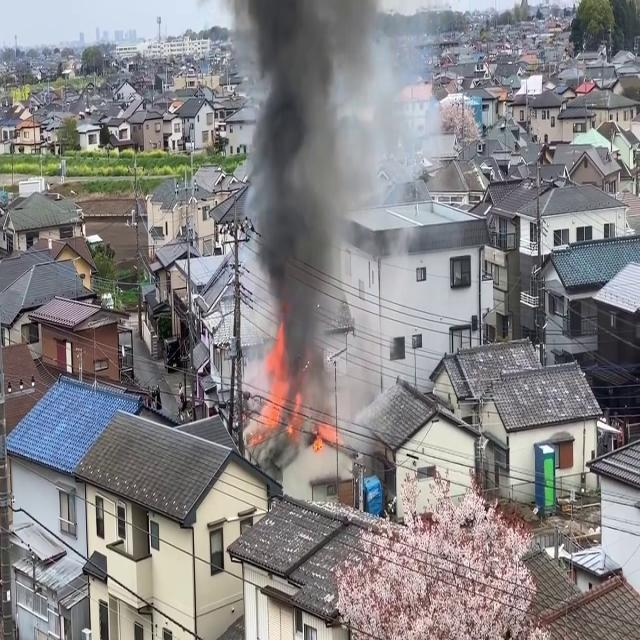Fire: (247, 322, 292, 448)
Smoke: (230, 1, 387, 427)
